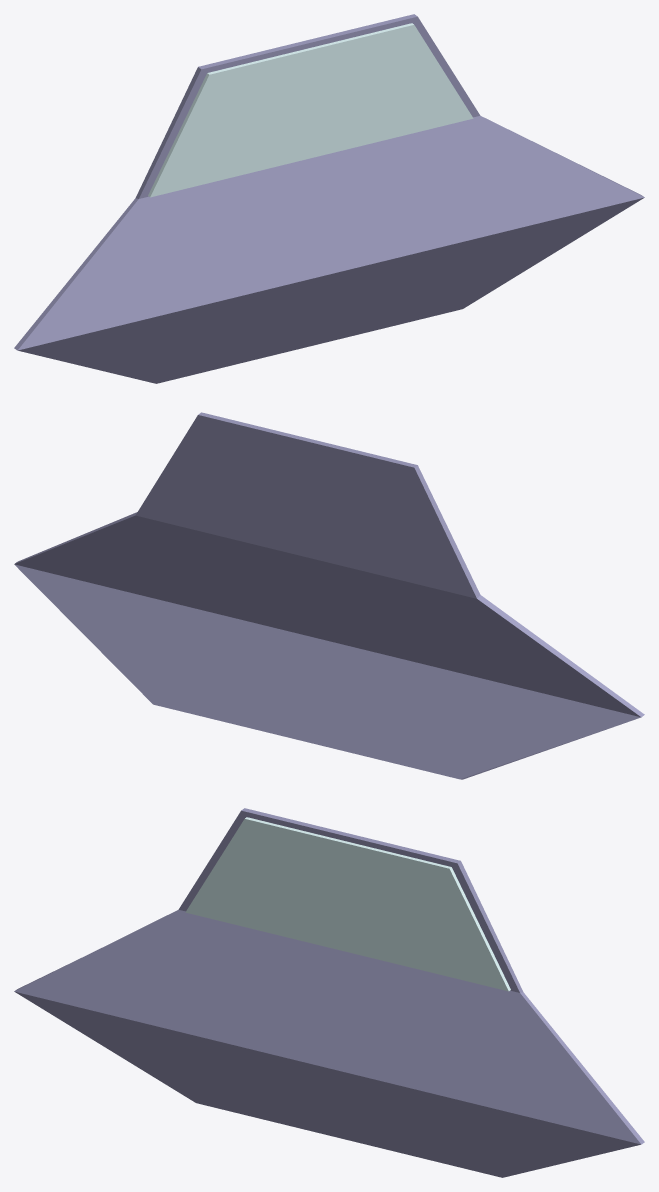
The model's file is saucer.fbx.
The picture shows the model from 3 angles, top to bottom: view 1: azimuth 30°, elevation 25°; view 2: azimuth 150°, elevation 25°; view 3: azimuth 330°, elevation 25°; orthographic projection.
Parts seen in each view (by area): view 1: Base, Widow; view 2: Base; view 3: Base, Widow.
Boxes of the visible parts, box(x1,y1,x2,y2) form: Base: box(14, 14, 644, 383); Widow: box(148, 23, 473, 197); Base: box(14, 412, 644, 779); Base: box(14, 808, 644, 1177); Widow: box(185, 817, 510, 991).
Bounding box in the file's own units: 260 × 120 × 18.
